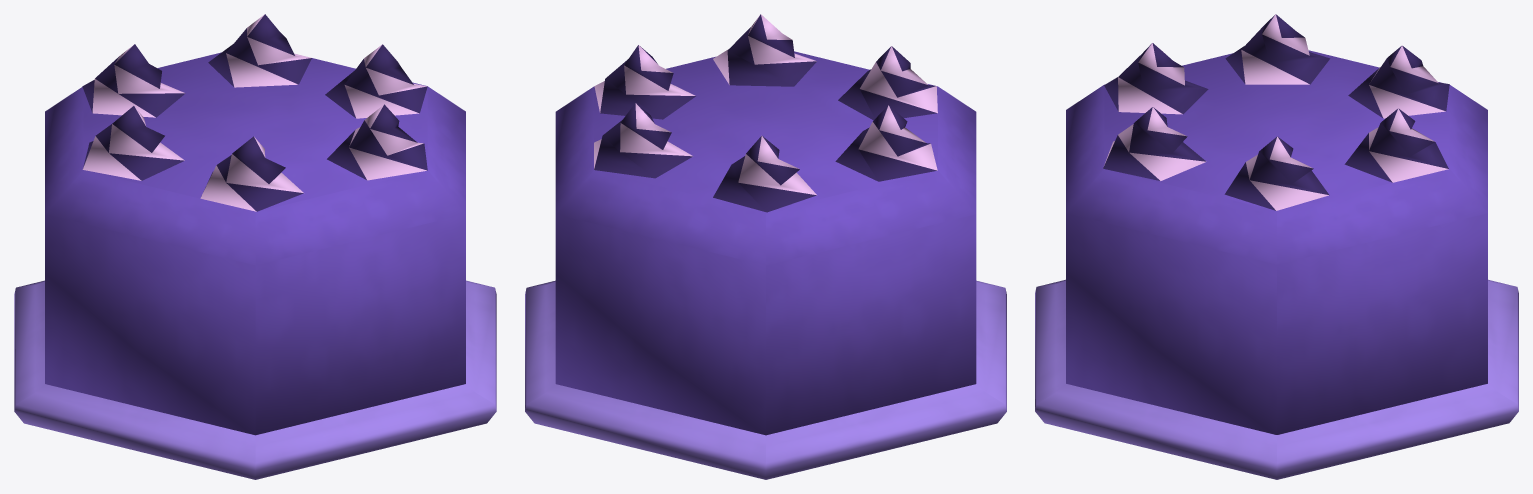
The model's file is Cake_B_01.FBX.
3 views of the same model, side by side, from view 1: azimuth 30°, elevation 25°; view 2: azimuth 150°, elevation 25°; view 3: azimuth 270°, elevation 25° (orthographic).
Parts seen in each view (by area): view 1: Cake_2; view 2: Cake_2; view 3: Cake_2.
Boxes of the visible parts, bbox=[...] form: Cake_2: bbox=[14, 14, 496, 479]; Cake_2: bbox=[525, 14, 1006, 479]; Cake_2: bbox=[1035, 14, 1518, 479].
Size of the model in its own units: 117 by 67.83 by 101.
